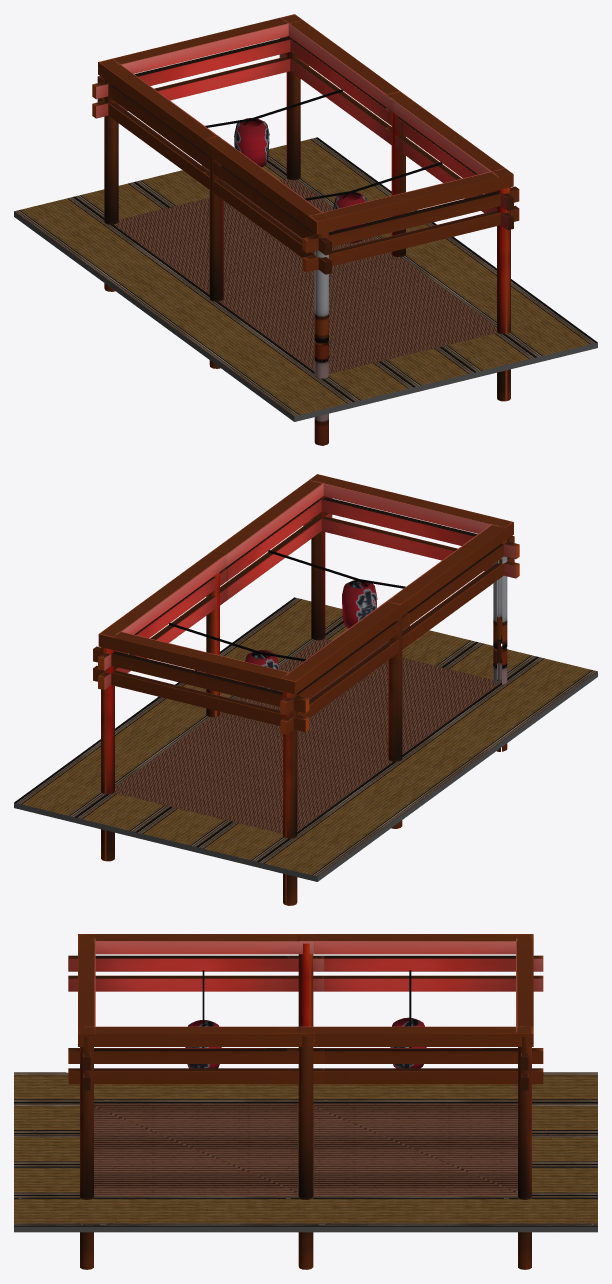
Rendered from exterior floor unit.FBX.
3 renders of one model, top to bottom at view 1: azimuth 30°, elevation 25°; view 2: azimuth 150°, elevation 25°; view 3: azimuth 270°, elevation 25°, orthographic. The views are drawn at different scales.
Visible parts, largest first — view 1: floor tatami, bamboo floor unit02, slat07, slat12, slat08, slat09, slat10, slat11, short base 2, column, column05, column07 (+4 smaller); view 2: floor tatami, bamboo floor unit02, slat12, slat07, slat08, slat10, slat11, slat09, short base 2, column06, column04, column07 (+4 smaller); view 3: floor tatami, bamboo floor unit02, slat11, slat10, slat09, slat08, short base 2, column08, column04, column05, slat07, slat12 (+1 smaller).
Part boxes in pixels (x1=…): floor tatami: x1=14, y1=137, x2=597, y2=416; bamboo floor unit02: x1=113, y1=179, x2=497, y2=373; slat07: x1=302, y1=168, x2=519, y2=272; slat12: x1=92, y1=15, x2=308, y2=118; slat08: x1=97, y1=59, x2=226, y2=197; slat09: x1=279, y1=14, x2=408, y2=152; slat10: x1=203, y1=135, x2=331, y2=274; slat11: x1=385, y1=91, x2=513, y2=229; short base 2: x1=14, y1=211, x2=597, y2=421; column: x1=314, y1=231, x2=328, y2=445; column05: x1=497, y1=187, x2=510, y2=401; column07: x1=209, y1=156, x2=223, y2=368; floor tatami: x1=14, y1=597, x2=597, y2=876; bamboo floor unit02: x1=114, y1=639, x2=501, y2=833; slat12: x1=93, y1=631, x2=309, y2=732; slat07: x1=303, y1=474, x2=519, y2=578; slat08: x1=280, y1=596, x2=409, y2=734; slat10: x1=386, y1=522, x2=514, y2=645; slat11: x1=211, y1=475, x2=332, y2=599; slat09: x1=98, y1=551, x2=227, y2=690; short base 2: x1=14, y1=663, x2=597, y2=881; column06: x1=283, y1=691, x2=297, y2=905; column04: x1=101, y1=647, x2=114, y2=861; column07: x1=388, y1=616, x2=402, y2=828; floor tatami: x1=14, y1=1072, x2=597, y2=1226; bamboo floor unit02: x1=94, y1=1103, x2=517, y2=1195; slat11: x1=68, y1=1026, x2=324, y2=1084; slat10: x1=68, y1=934, x2=324, y2=991; slat09: x1=287, y1=1026, x2=543, y2=1084; slat08: x1=287, y1=934, x2=543, y2=991; short base 2: x1=14, y1=1226, x2=597, y2=1232; column08: x1=298, y1=1036, x2=313, y2=1269; column04: x1=518, y1=1036, x2=531, y2=1269; column05: x1=80, y1=1036, x2=93, y2=1269; slat07: x1=78, y1=934, x2=95, y2=1090; slat12: x1=516, y1=937, x2=533, y2=1090.
Bounding box in the file's own units: 354 × 252 × 567.
Materials: 8 (8 with a texture image).
